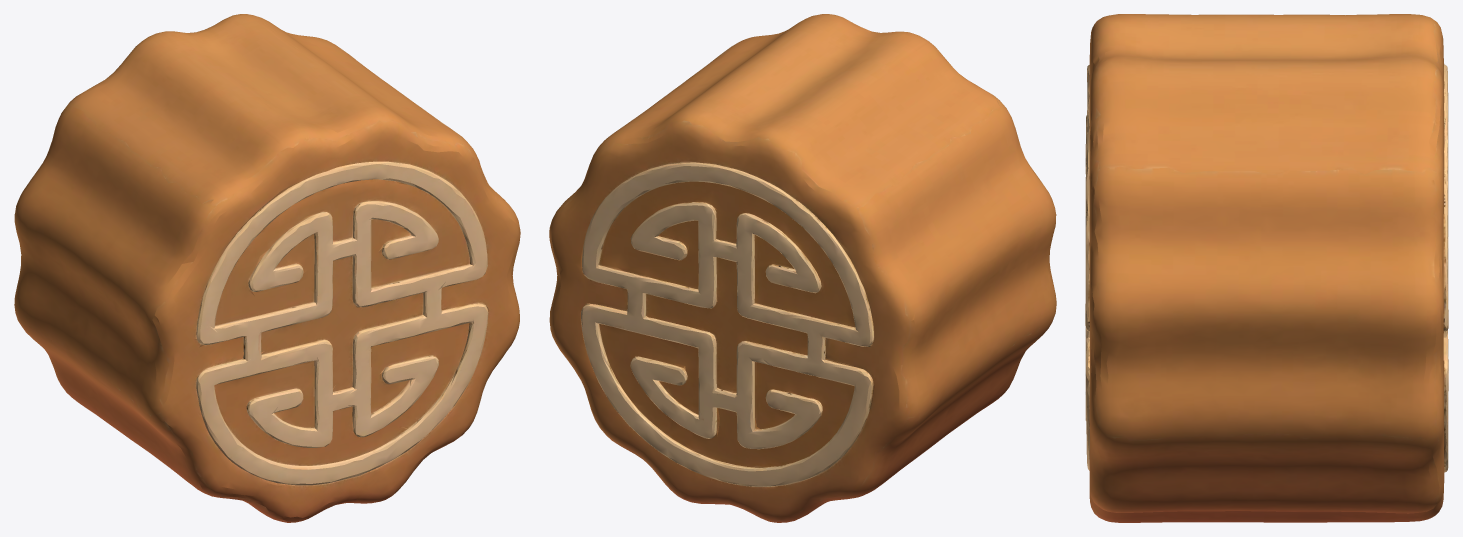
Rendered from mooncake.glb.
3 renders of one model, left to right at view 1: azimuth 30°, elevation 25°; view 2: azimuth 150°, elevation 25°; view 3: azimuth 270°, elevation 25°, orthographic. The views are drawn at different scales.
Visible parts, largest first — view 1: Mesh; view 2: Mesh; view 3: Mesh.
Part boxes in pixels (x1,y1,x2,y2): Mesh: (14,14,520,522); Mesh: (549,14,1056,522); Mesh: (1085,14,1448,522).
Bounding box in the file's own units: 0.9915 × 1 × 0.7236.
1 material, 1 textured.
